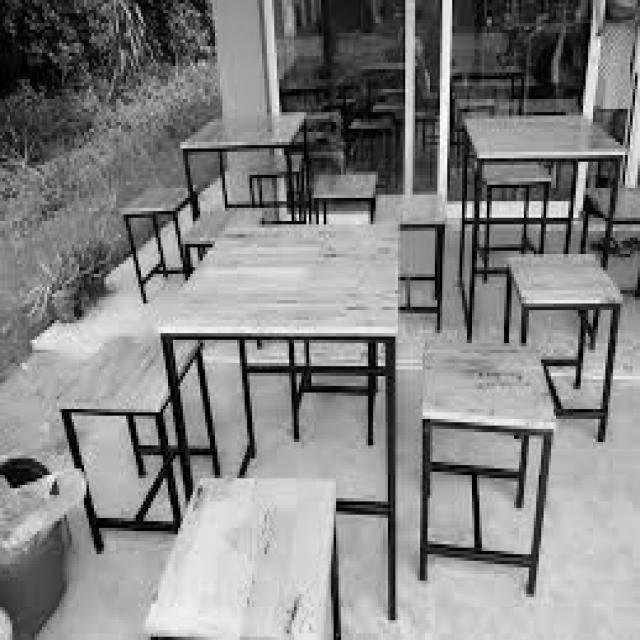table: (172, 209, 414, 358), (458, 95, 622, 196), (178, 87, 314, 163)
